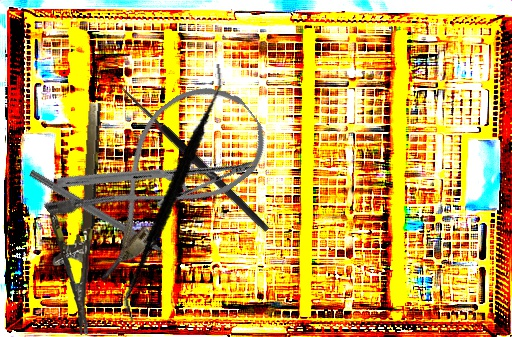Cannula: (39, 65, 281, 286)
Hook Surgical: (106, 80, 272, 241), (27, 168, 183, 268)
Needle Holder: (53, 81, 259, 267), (41, 100, 105, 336)
Spatula Surgical: (85, 63, 265, 322)
